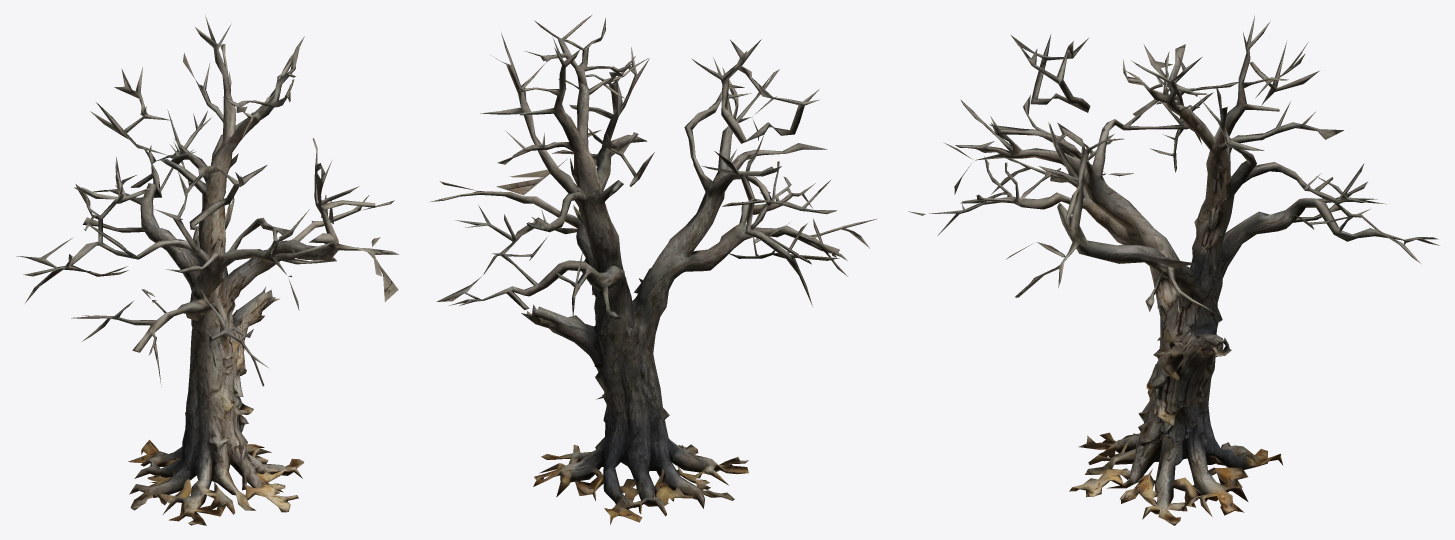
File: ul_dead_tree.glb
3 views of the same model, side by side, from view 1: azimuth 30°, elevation 25°; view 2: azimuth 150°, elevation 25°; view 3: azimuth 270°, elevation 25° (orthographic). The views are drawn at different scales.
Parts seen in each view (by area): view 1: tripo_node_83797022-45c0-4cc5-a0e6-454c630c2140; view 2: tripo_node_83797022-45c0-4cc5-a0e6-454c630c2140; view 3: tripo_node_83797022-45c0-4cc5-a0e6-454c630c2140.
Boxes of the visible parts, <box> form: tripo_node_83797022-45c0-4cc5-a0e6-454c630c2140: <box>16,15,398,525</box>; tripo_node_83797022-45c0-4cc5-a0e6-454c630c2140: <box>430,15,876,524</box>; tripo_node_83797022-45c0-4cc5-a0e6-454c630c2140: <box>908,15,1439,525</box>.
Bounding box in the file's own units: 0.8943 × 0.9879 × 1.
Materials: 1 (1 with a texture image).
